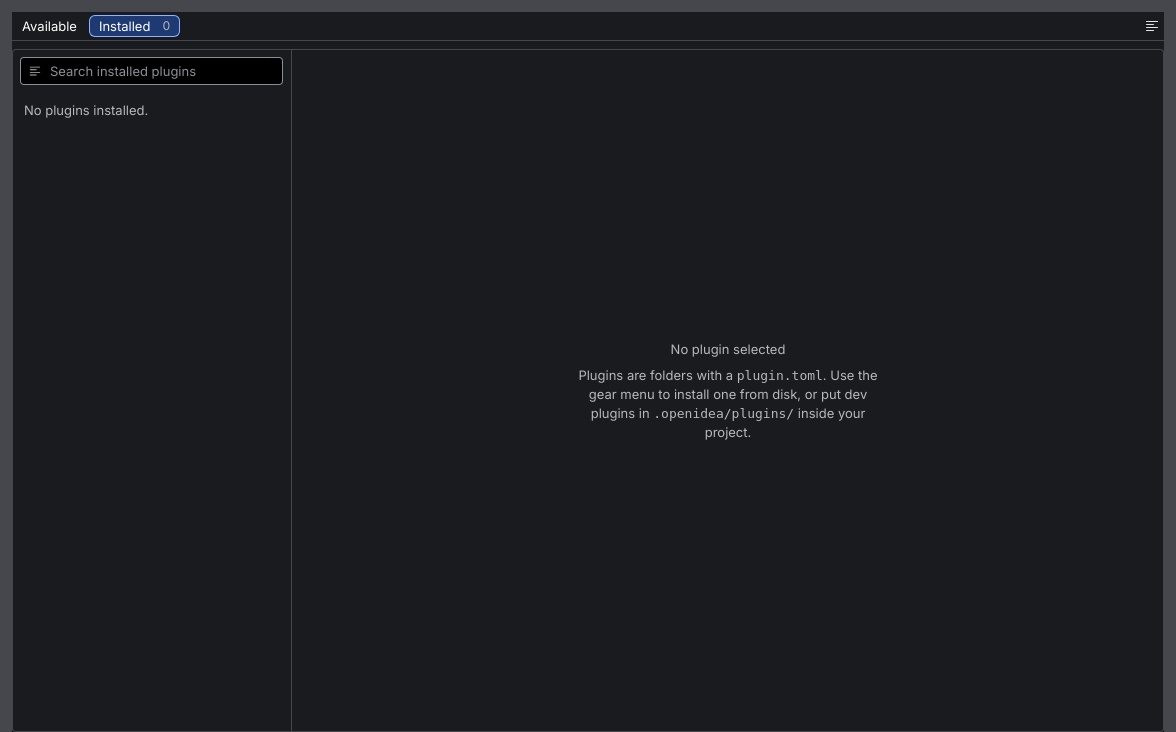
it: PluginsPage › installs from the local catalog on the Available tab
What coordinates should you click on to do the following:
click the tab "Available"
I would click on:
 (49, 26)
Its box is [12,15,87,37].
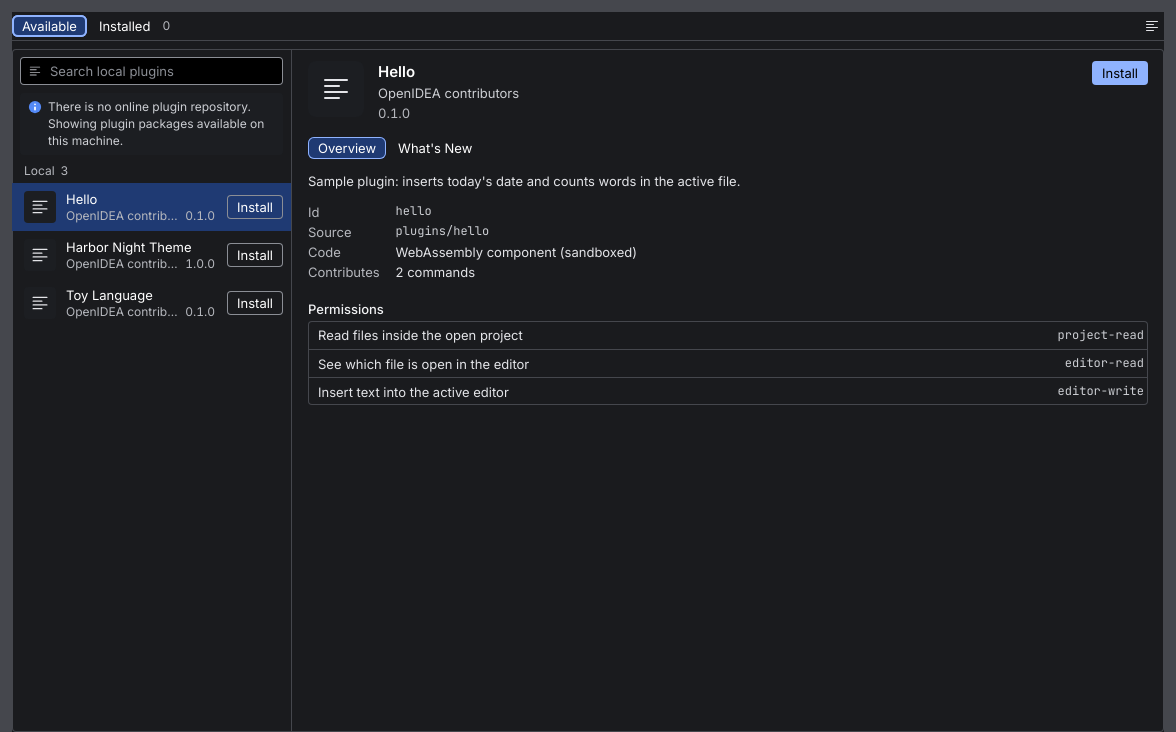
expect the text "There is no online plugin repository" is shown: met, box [48,99,264,148]
expect the text "Toy Language" is shown: met
What coordinates should you click on to do the following:
click the text "Toy Language"
I would click on:
 (109, 295)
Its box is [66,287,153,303].
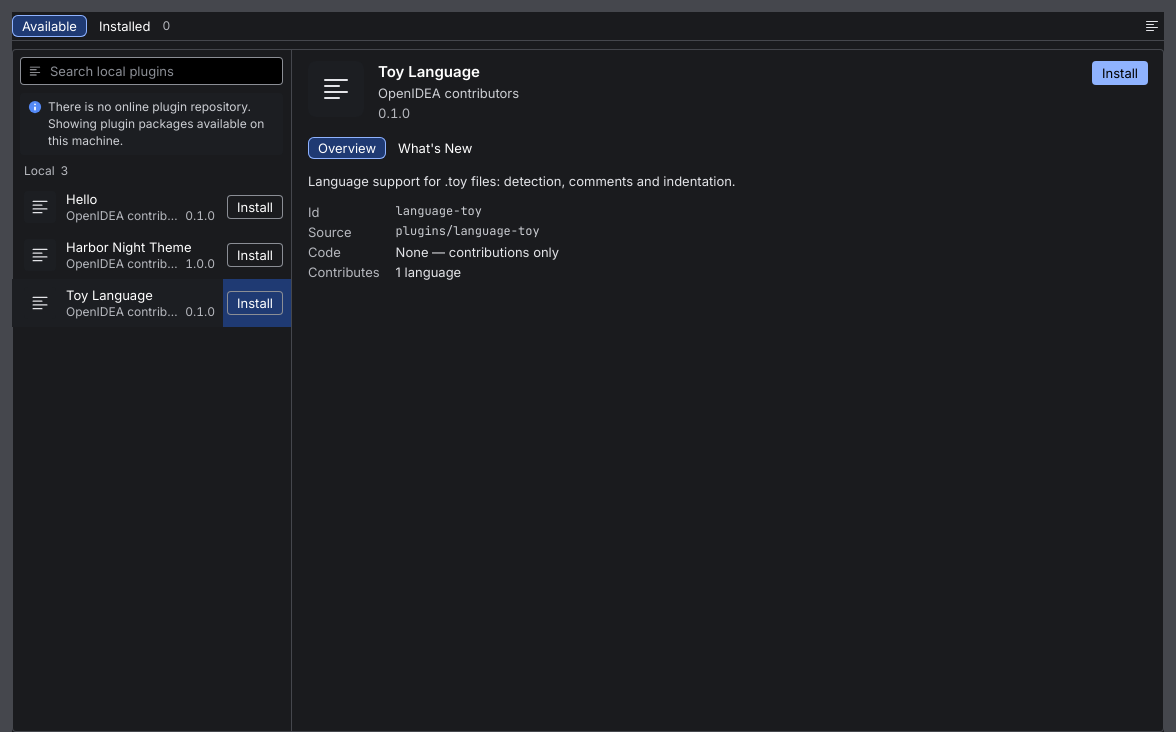
expect the heading reads "Toy Language": met, box [378,62,480,81]
What coordinates should you click on to do the following:
click the button with aria-label "Install Toy Language"
I would click on:
 (255, 303)
Its box is [227,291,283,315].
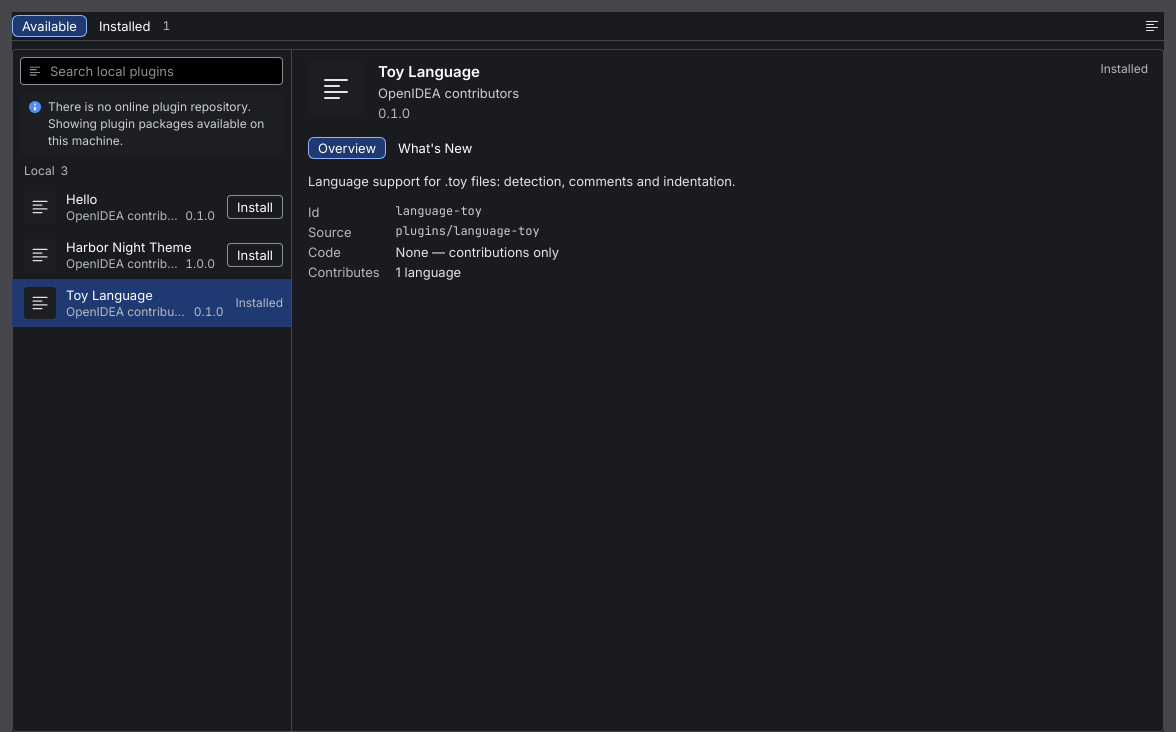
expect the text "Installed" below "Local" is shown: met, box [236,295,283,310]
